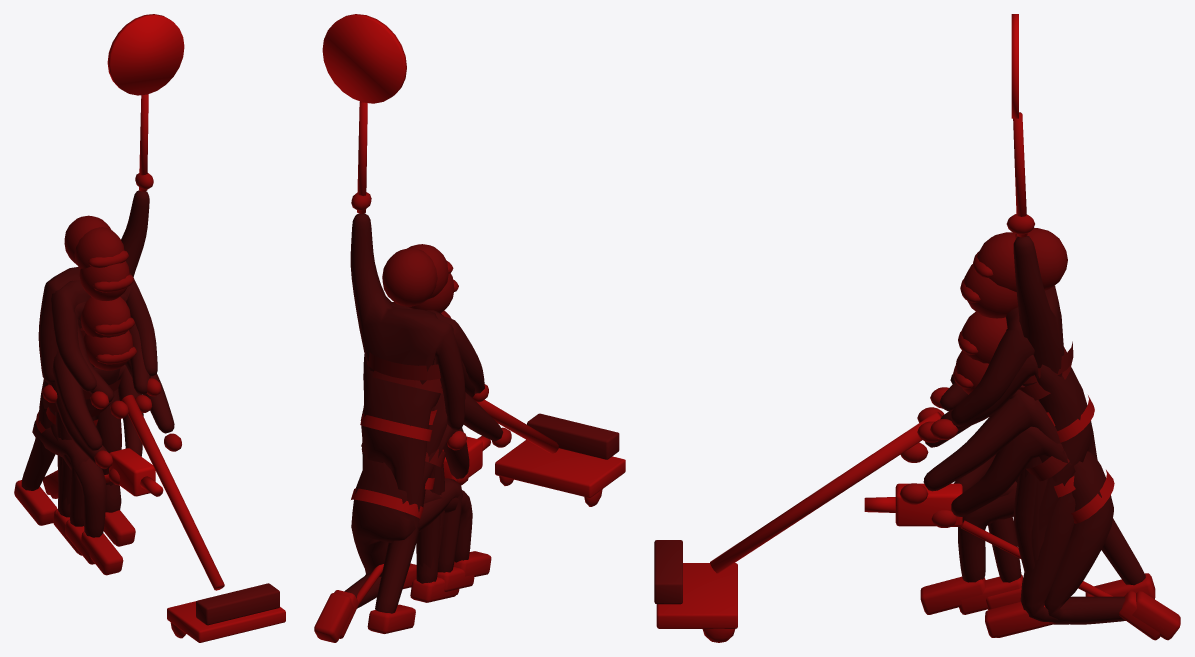
3 renders of one model, left to right at view 1: azimuth 30°, elevation 25°; view 2: azimuth 150°, elevation 25°; view 3: azimuth 270°, elevation 25°, orthographic. The views are drawn at different scales.
Visible parts, largest first — view 1: crew_jack_jack, crew_signal_sign, crew_kneel, crew_carry, crew_crouch_gun; view 2: crew_signal_sign, crew_jack_jack, crew_crouch_gun, crew_kneel, crew_carry; view 3: crew_jack_jack, crew_crouch_gun, crew_kneel, crew_signal_sign, crew_carry.
Part boxes in pixels (box(x1,y1,x2,y2)): crew_jack_jack: box(14, 261, 285, 642); crew_signal_sign: box(38, 14, 184, 555); crew_kneel: box(46, 296, 181, 575); crew_carry: box(51, 227, 161, 553); crew_crouch_gun: box(32, 330, 163, 564); crew_signal_sign: box(322, 14, 466, 597); crew_jack_jack: box(360, 273, 625, 633); crew_crouch_gun: box(314, 408, 490, 642); crew_kneel: box(334, 310, 511, 638); crew_carry: box(391, 244, 488, 602); crew_jack_jack: box(654, 264, 1155, 642); crew_crouch_gun: box(864, 350, 1180, 640); crew_kneel: box(900, 311, 1163, 640); crew_signal_sign: box(985, 14, 1073, 637); crew_carry: box(930, 232, 1064, 637).
Bounding box in the file's own units: 0.8009 × 2.93 × 2.2.
